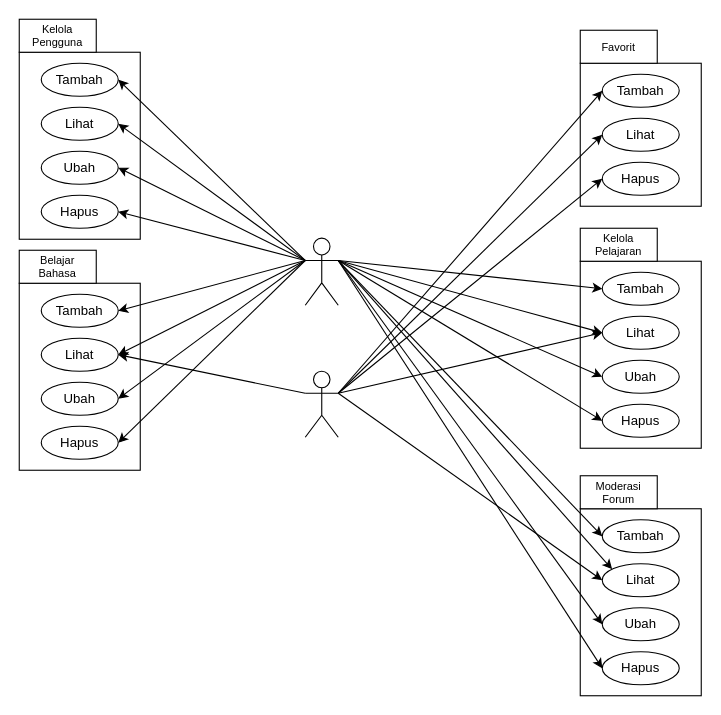
This 721x715 diagram has some shape labels left out. The shapes that lost their labels are listed below. From the top down, each one's centre as x and y in pixels, then its label:
At point (321, 271): "ADMIN".
At point (321, 403): "USER".
